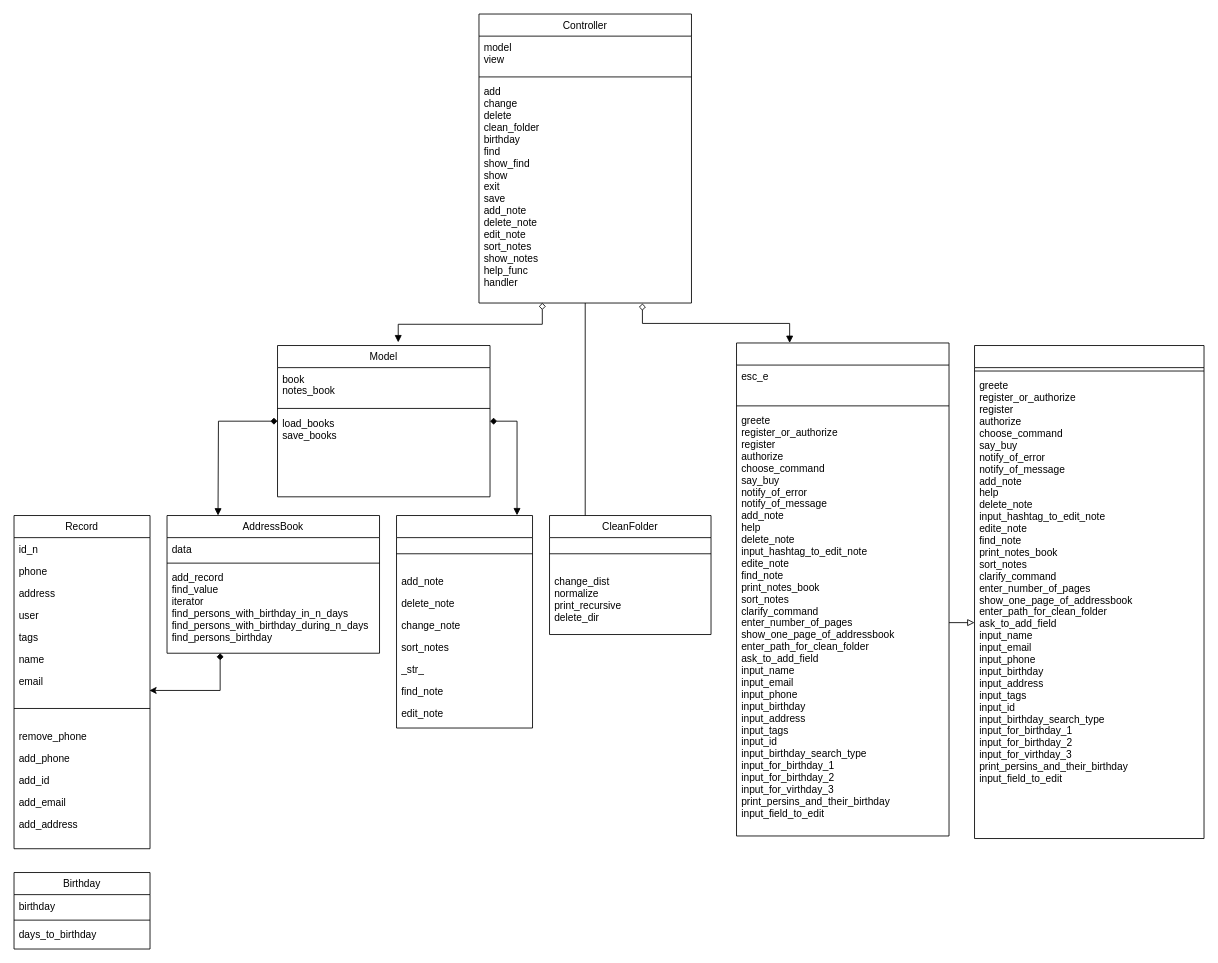
Image size: 1218x963. Some labels were removed from this diagram. Here are the shapes that lost their labels. From the top down, the box of each, then its label:
(736, 342, 949, 836): ConsoleView
(974, 345, 1204, 839): ViewInterface
(396, 515, 533, 728): NotesBook(UserList)
